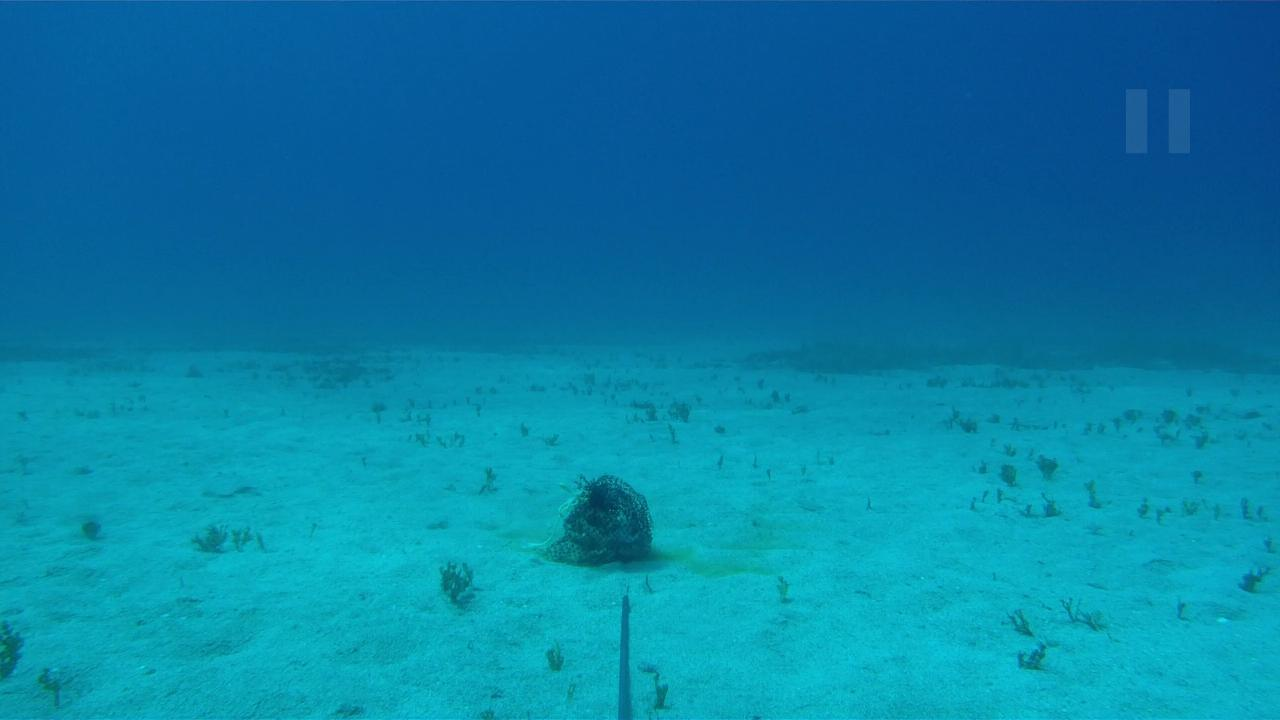bothus: (199, 465, 257, 500)
